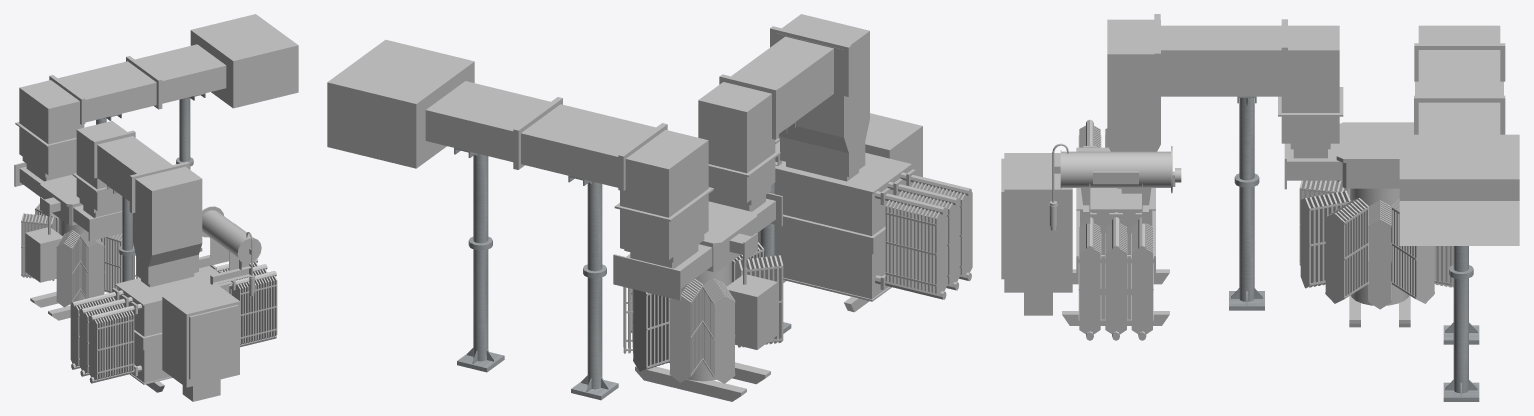
The model's file is Machine003_mirror.FBX.
3 renders of one model, left to right at view 1: azimuth 30°, elevation 25°; view 2: azimuth 150°, elevation 25°; view 3: azimuth 270°, elevation 25°, orthographic. The views are drawn at different scales.
Parts seen in each view (by area): view 1: Machine003_mirror; view 2: Machine003_mirror; view 3: Machine003_mirror.
Part boxes in pixels (left/top/right/bottom): Machine003_mirror: left=14, top=14, right=298, bottom=401; Machine003_mirror: left=327, top=14, right=972, bottom=401; Machine003_mirror: left=1001, top=14, right=1519, bottom=401.
Size of the model in its own units: 570 by 344 by 574.
